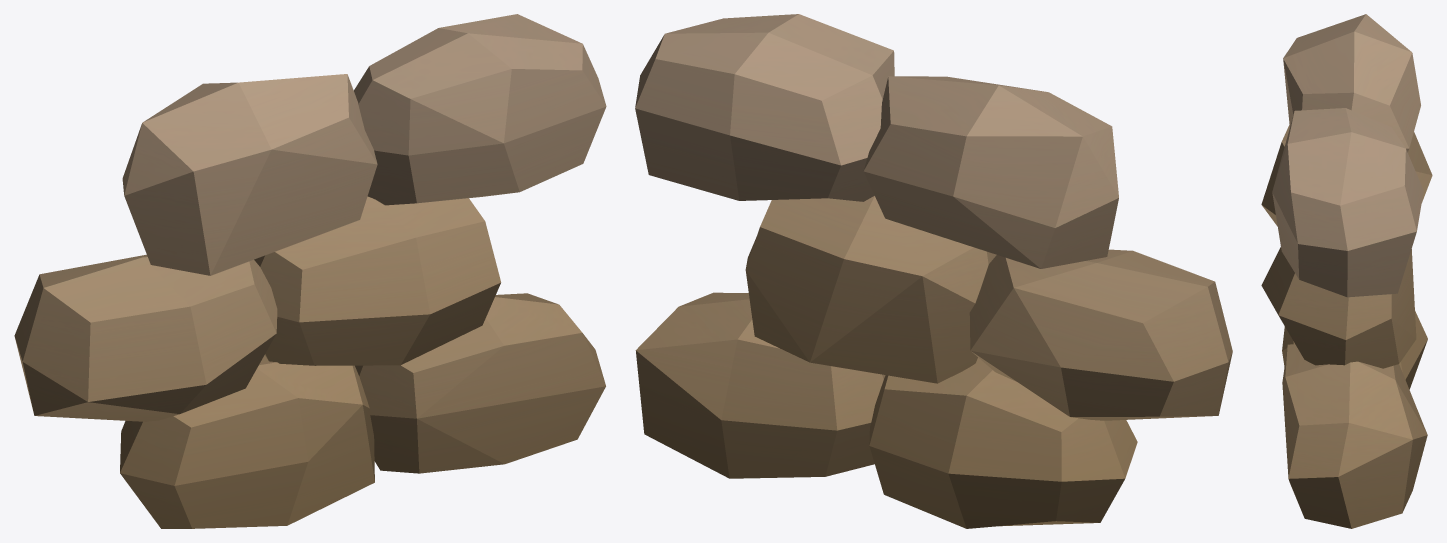
The model's file is SobbleStoneWall_02.fbx.
The picture shows the model from 3 angles, left to right: view 1: azimuth 30°, elevation 25°; view 2: azimuth 150°, elevation 25°; view 3: azimuth 270°, elevation 25°; orthographic projection. The views are drawn at different scales.
Visible parts, largest first — view 1: SobbleStoneWall_02; view 2: SobbleStoneWall_02; view 3: SobbleStoneWall_02.
Boxes of the visible parts, x1,y1,x2,y2 form: SobbleStoneWall_02: (14, 14, 606, 528); SobbleStoneWall_02: (635, 14, 1232, 528); SobbleStoneWall_02: (1261, 14, 1432, 528).
Bounding box in the file's own units: 191 × 140 × 56.6.
